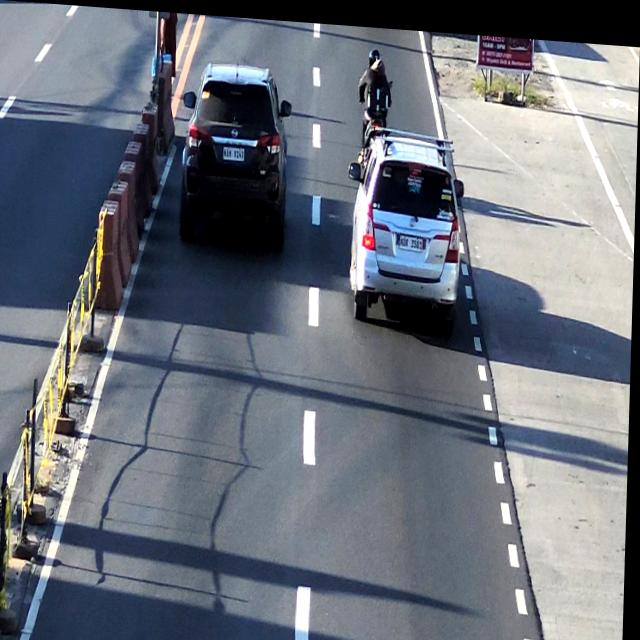Car: (350, 123, 464, 329), (183, 57, 291, 239)
License-Plate: (398, 226, 426, 246), (221, 141, 247, 161)
Motorcycle: (357, 44, 392, 126)
